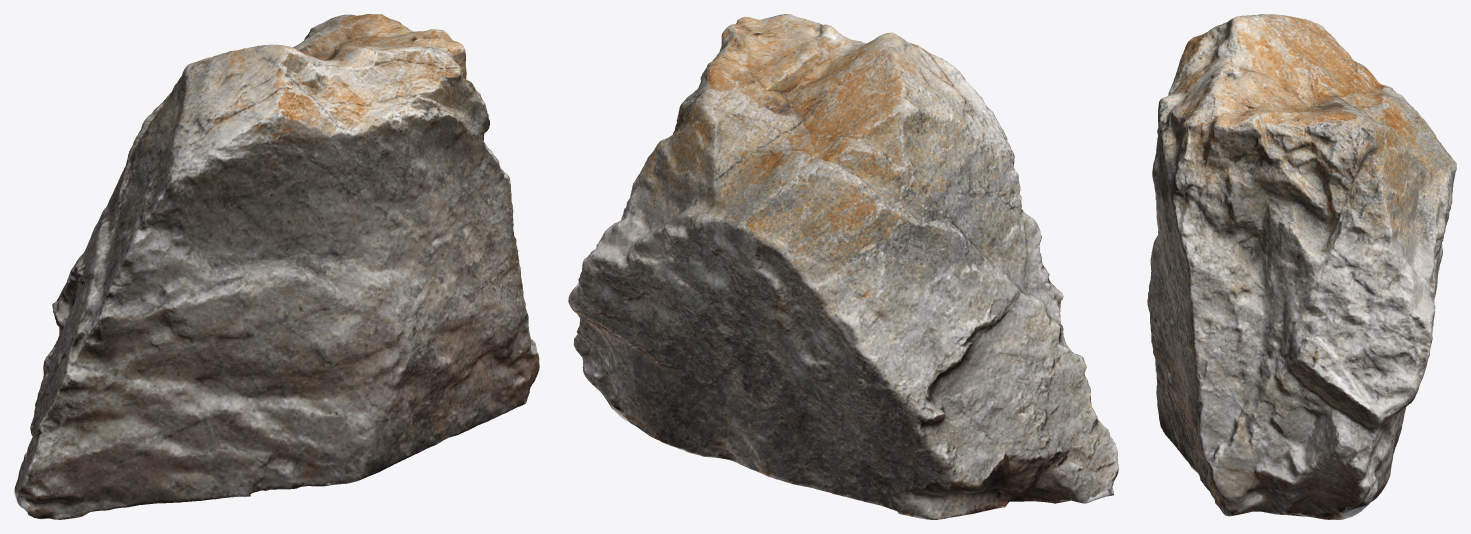
The model's file is sparse2.glb.
3 renders of one model, left to right at view 1: azimuth 30°, elevation 25°; view 2: azimuth 150°, elevation 25°; view 3: azimuth 270°, elevation 25°, orthographic. The views are drawn at different scales.
Parts seen in each view (by area): view 1: Node; view 2: Node; view 3: Node.
Boxes of the visible parts, bbox=[...] form: Node: bbox=[14, 14, 539, 519]; Node: bbox=[568, 14, 1118, 519]; Node: bbox=[1147, 14, 1456, 519].
Bounding box in the file's own units: 3.48 × 2.7 × 1.87.
1 material, 1 textured.
